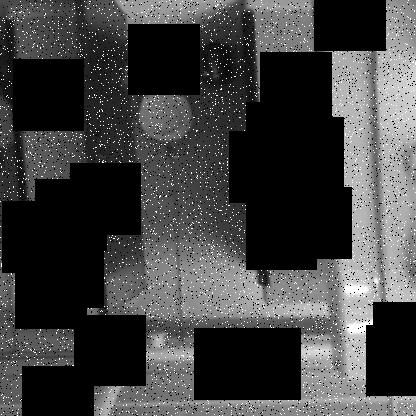Porte: (72, 0, 269, 317)
